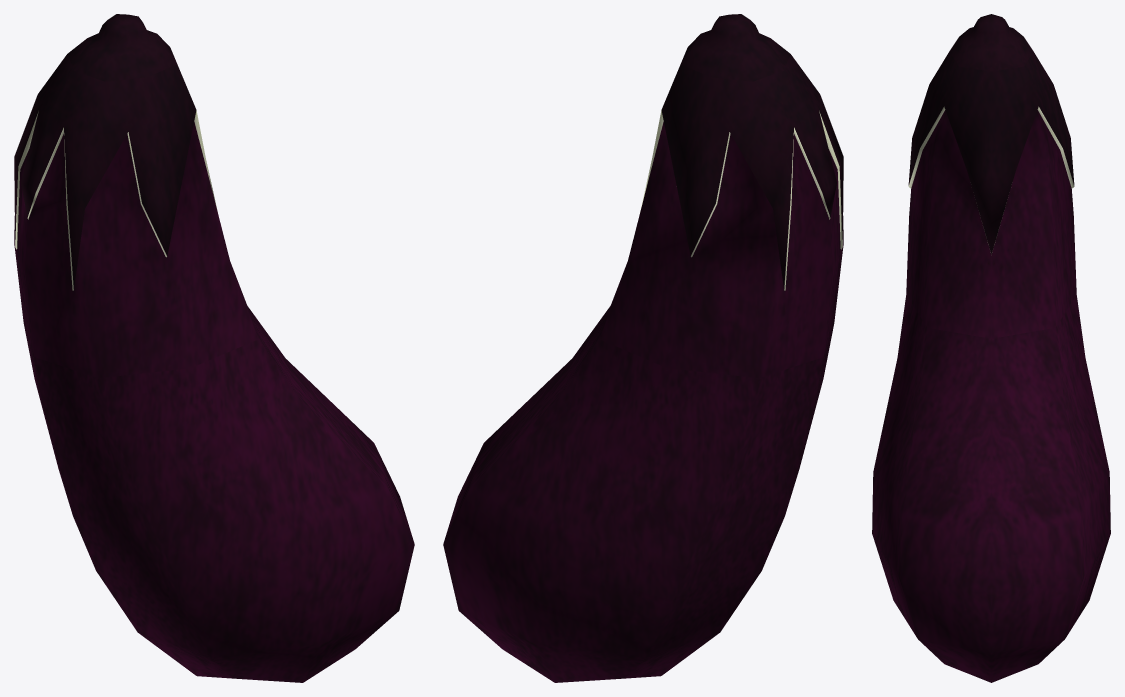
Rendered from nasu.fbx.
3 renders of one model, left to right at view 1: azimuth 30°, elevation 25°; view 2: azimuth 150°, elevation 25°; view 3: azimuth 270°, elevation 25°, orthographic. The views are drawn at different scales.
Visible parts, largest first — view 1: Cube; view 2: Cube; view 3: Cube.
Part boxes in pixels (<box>): Cube: <box>14,14,414,682</box>; Cube: <box>443,14,843,682</box>; Cube: <box>872,14,1110,682</box>.
Size of the model in its own units: 2.02 by 3.6 by 1.32.
